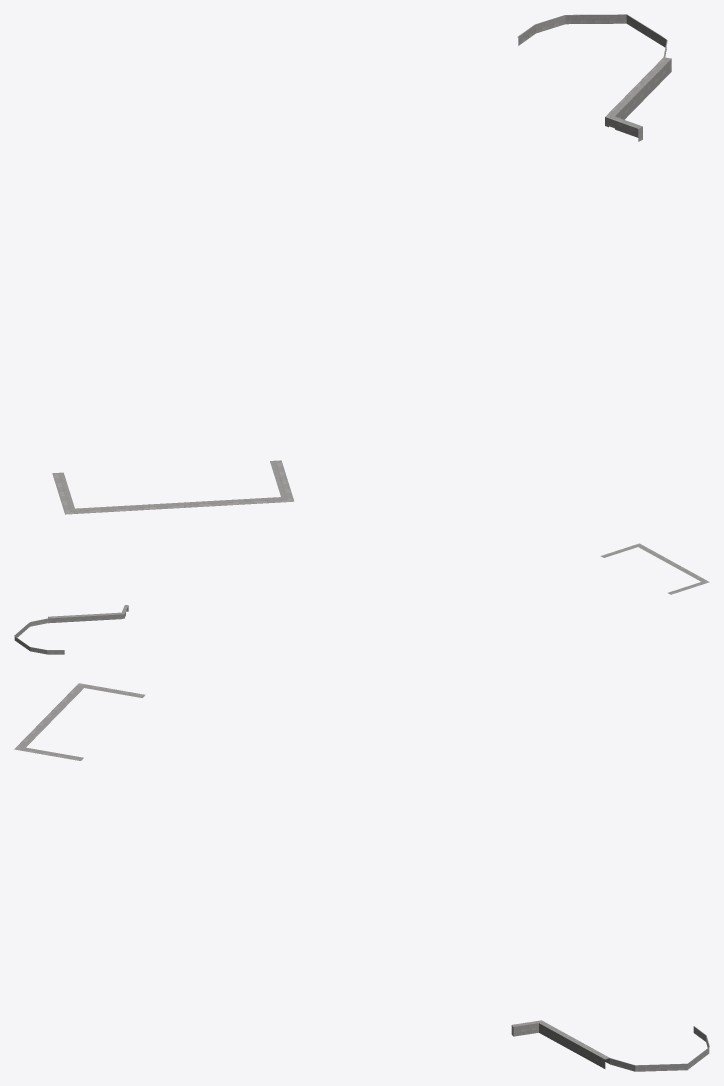
Rendered from kd_stage_135ebf_0_39_bounded.glb.
3 views of the same model, one above another, from view 1: azimuth 30°, elevation 25°; view 2: azimuth 150°, elevation 25°; view 3: azimuth 270°, elevation 25° (orthographic). The views are drawn at different scales.
Visible parts, largest first — view 1: kd_stage_135ebf_0_39_bounded; view 2: kd_stage_135ebf_0_39_bounded; view 3: kd_stage_135ebf_0_39_bounded.
Part boxes in pixels (x1,y1,x2,y2): kd_stage_135ebf_0_39_bounded: [52, 14, 671, 514]; kd_stage_135ebf_0_39_bounded: [14, 543, 709, 654]; kd_stage_135ebf_0_39_bounded: [14, 683, 709, 1071].
Bounding box in the file's own units: 19.56 × 1.05 × 16.38.
Materials: 1 (1 with a texture image).
